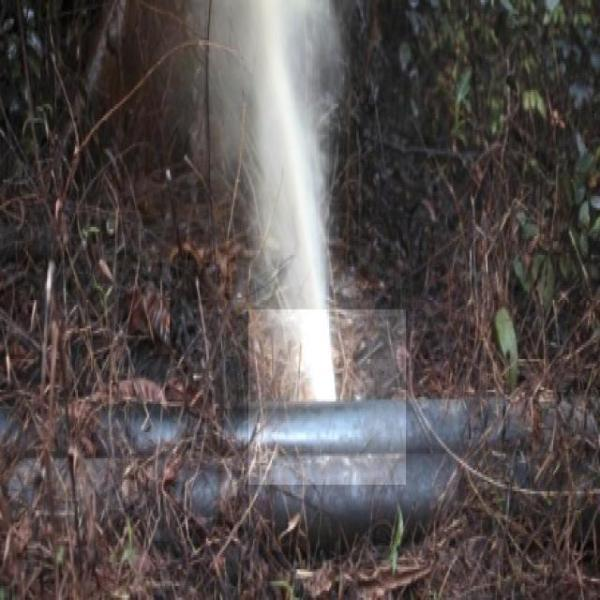pipe burst: (210, 0, 342, 408)
